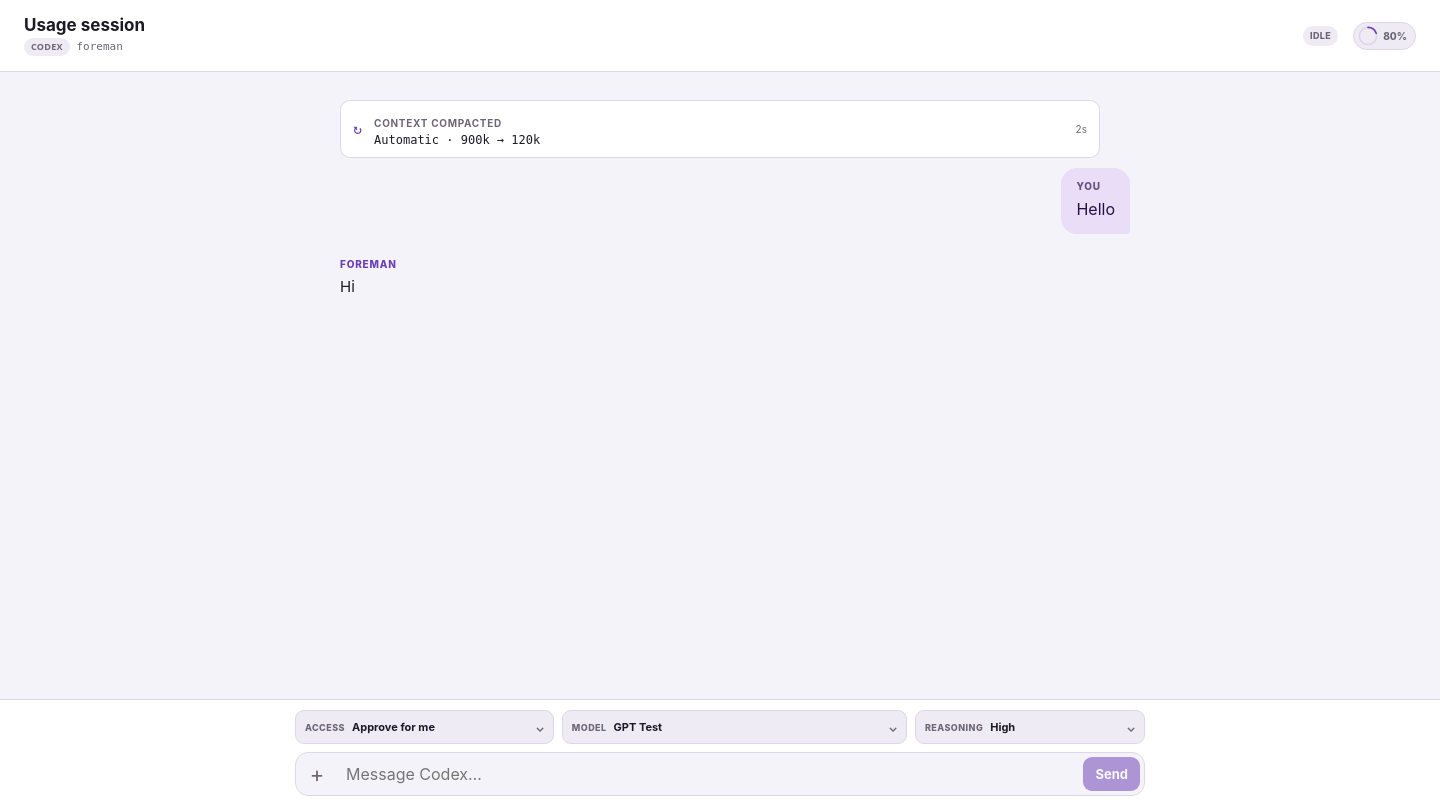
Test: session context usage › keeps per-session context in the conversation header
Click the button named "Context usage, 80% left": (1385,36) [1353, 22, 1416, 50]
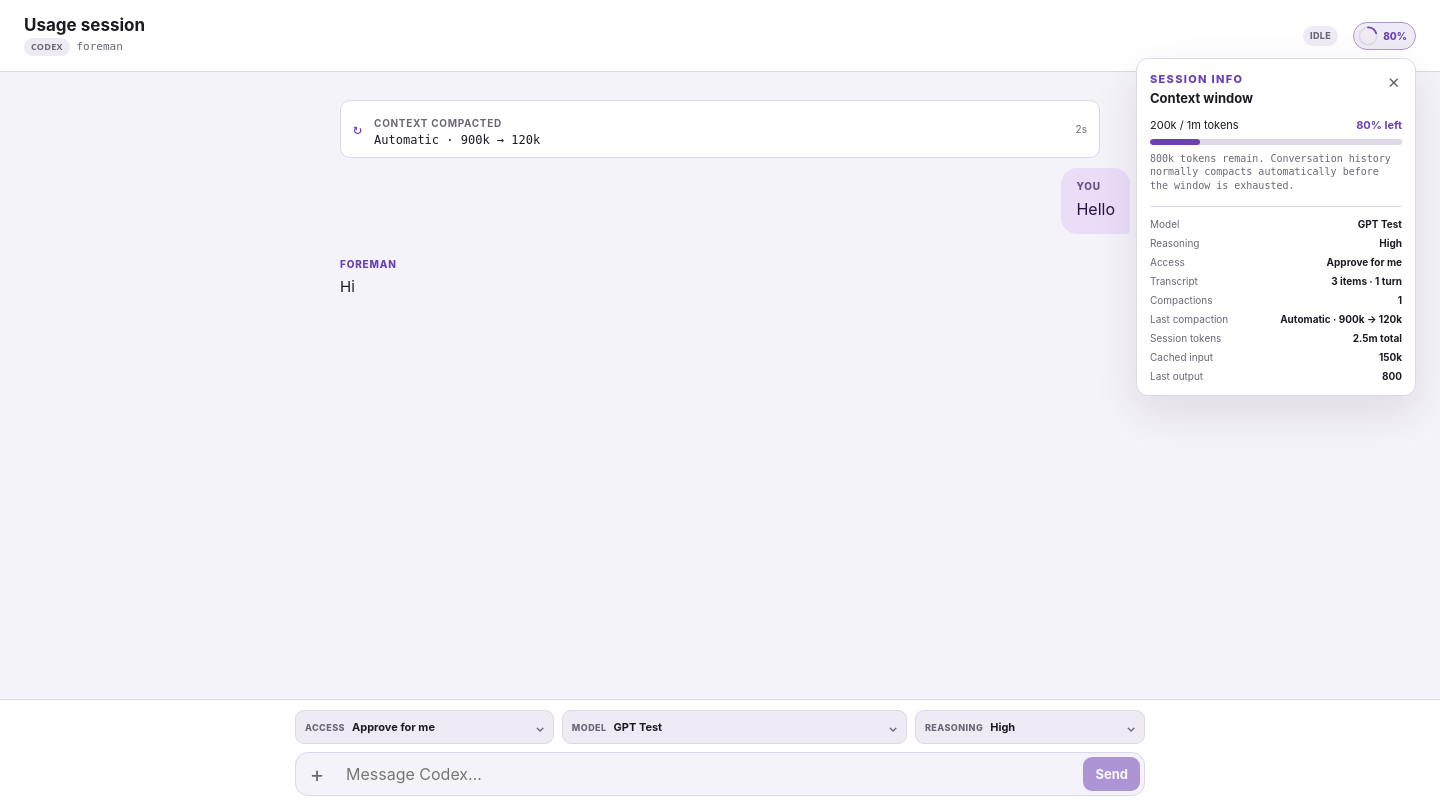
Check: the text "200k / 1m tokens" is shown, box [1150, 118, 1239, 132]
Check: the text "Conversation history normally compacts automatically" is shown, box [1150, 153, 1391, 191]
Check: the text "3 items · 1 turn" is shown, box [1331, 275, 1402, 287]
Press the mouse on the element that starts with "Usage session": (720,405) [0, 0, 1439, 809]
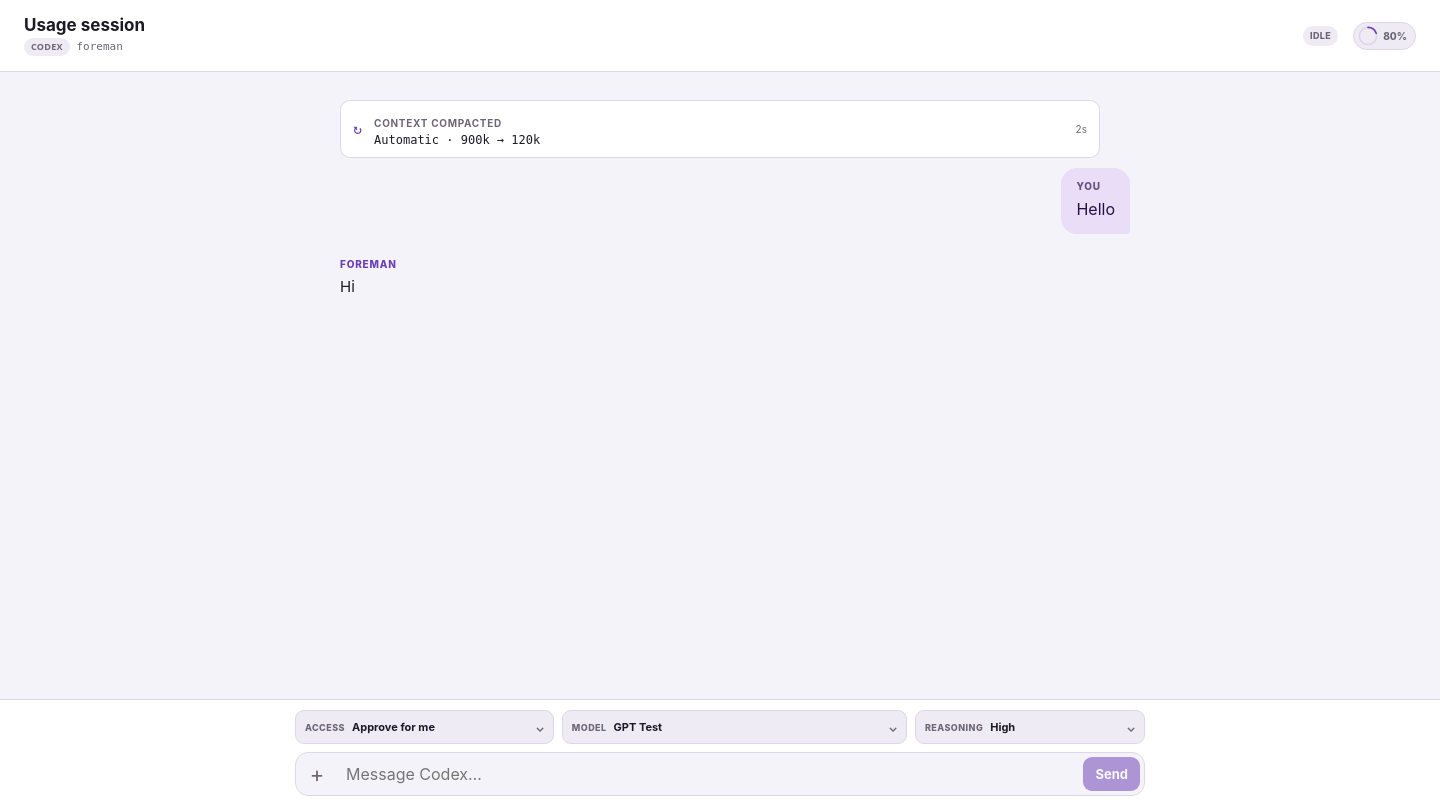
Check: the text "Session info" is gone
